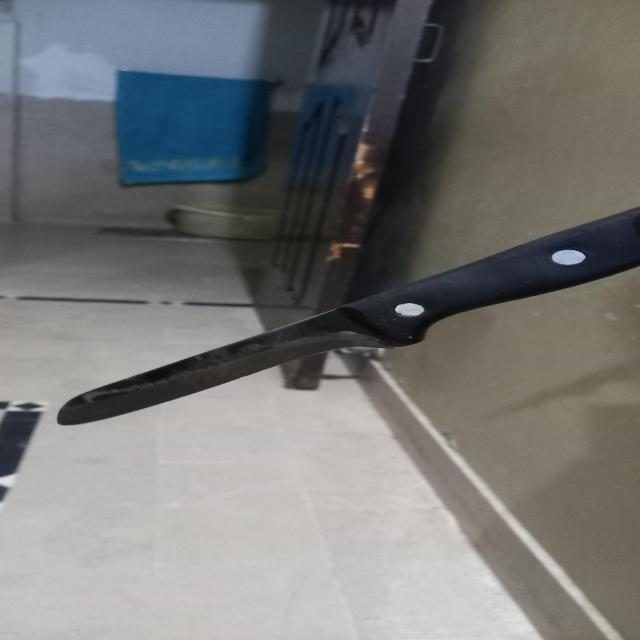Knife: (59, 206, 640, 428)
